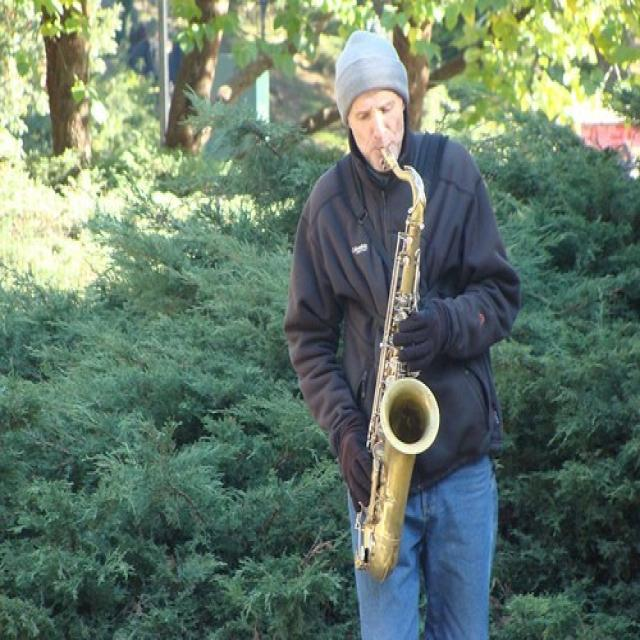saxophone: (351, 147, 442, 588)
